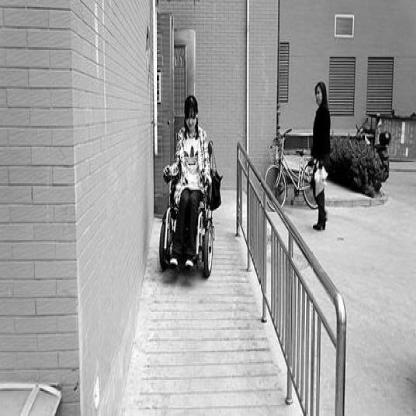wheelchair: (160, 96, 222, 280)
